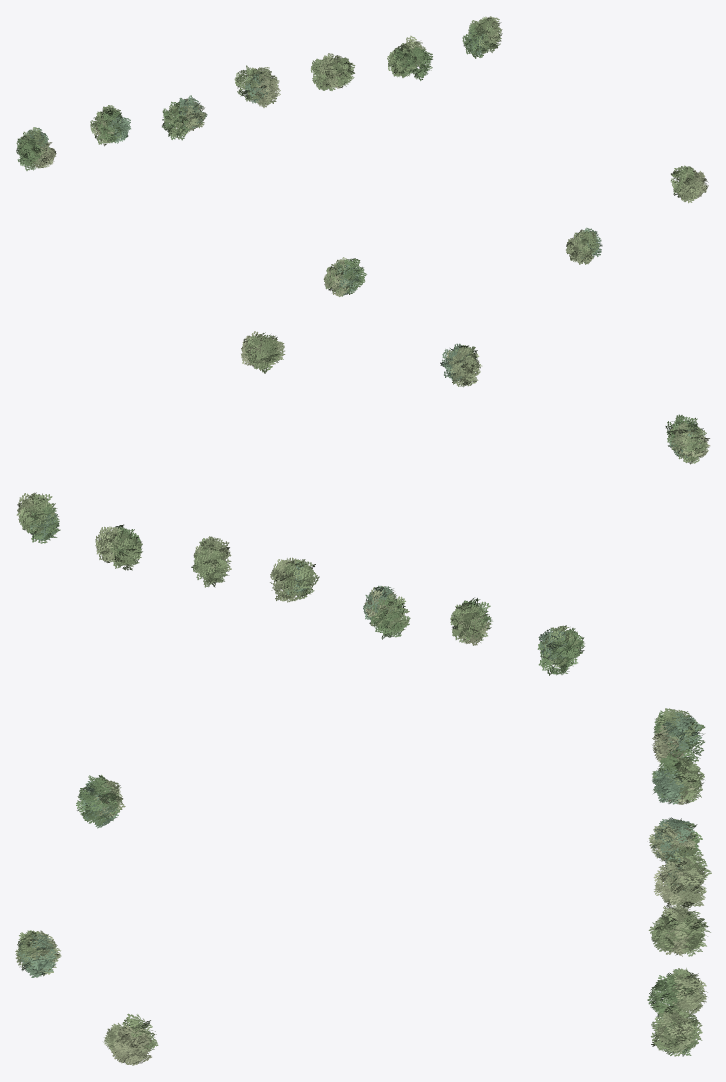
Rendered from campus-tree-1_-4-near.glb.
3 views of the same model, one above another, from view 1: azimuth 30°, elevation 25°; view 2: azimuth 150°, elevation 25°; view 3: azimuth 270°, elevation 25° (orthographic). The views are drawn at different scales.
Visible parts, largest first — view 1: Campus leaf canopy; view 2: Campus leaf canopy; view 3: Campus leaf canopy.
Part boxes in pixels (x1,y1,x2,y2): Campus leaf canopy: (16, 16, 708, 296); Campus leaf canopy: (16, 331, 710, 675); Campus leaf canopy: (15, 708, 711, 1065).
Bounding box in the file's own units: 73.55 × 7.54 × 65.79.
Materials: 1 (1 with a texture image).
